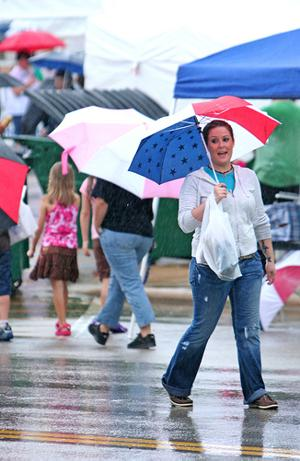person: (160, 117, 280, 413)
